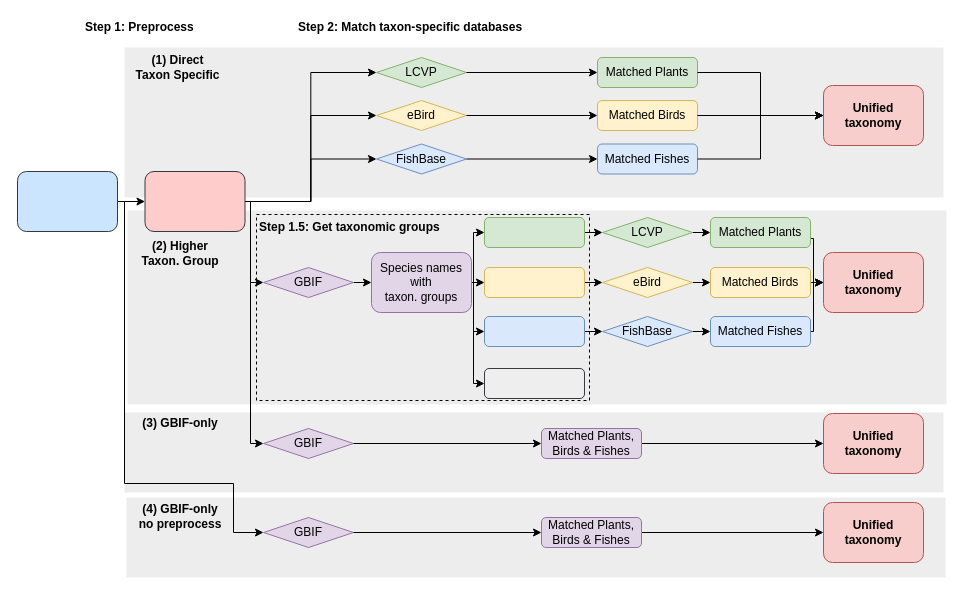
Some shapes in this 964 by 594 pixel diagram are drawn without their labels. Here are the shapes that lost their labels. From the top down, the box of each, then its label:
(16, 170, 118, 232): Raw list of species names
(144, 170, 245, 232): Unified species names
(484, 216, 584, 248): Plants
(484, 266, 584, 298): Birds
(484, 316, 584, 346): Fishes
(484, 368, 584, 398): Other
